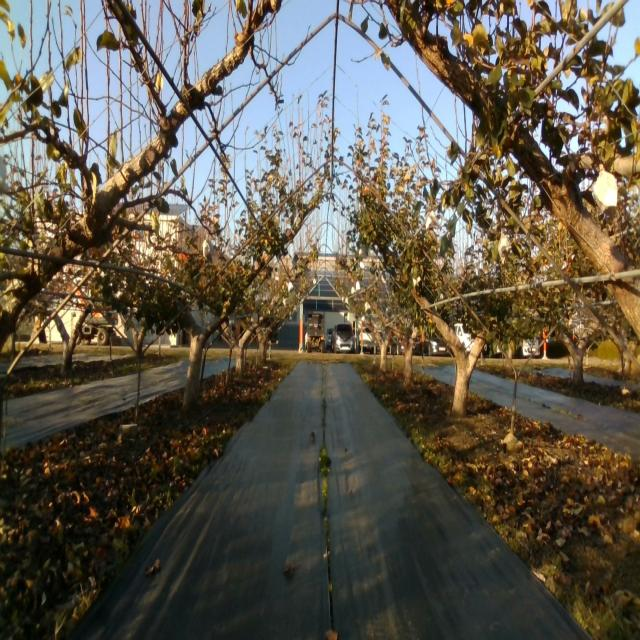pearbags: (592, 163, 618, 212), (498, 228, 512, 267), (425, 210, 440, 232), (203, 234, 213, 262)
